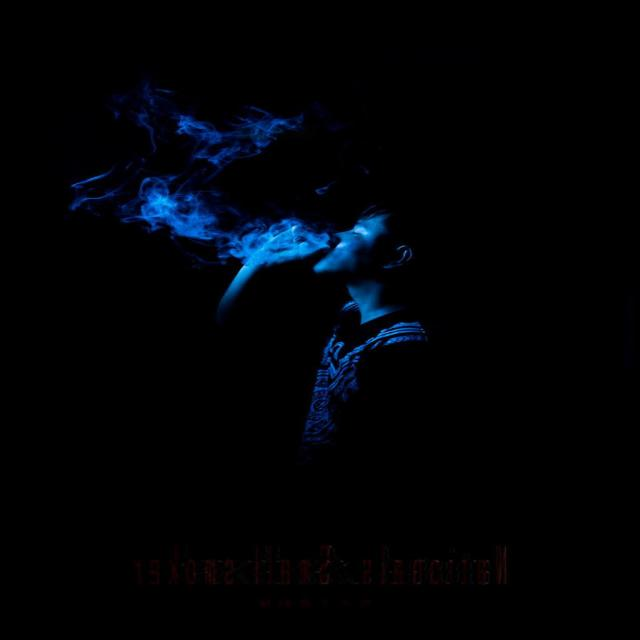smoking: (200, 179, 479, 309)
